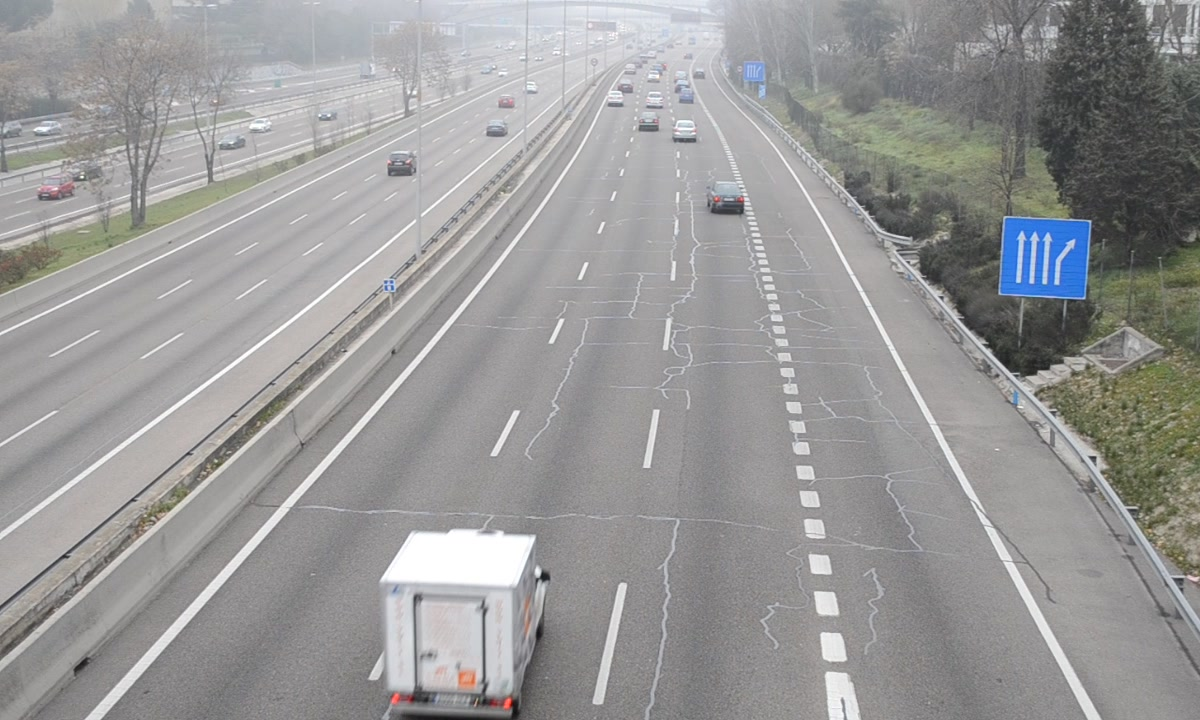car: (706, 179, 745, 215)
small-truck: (381, 531, 549, 720)
